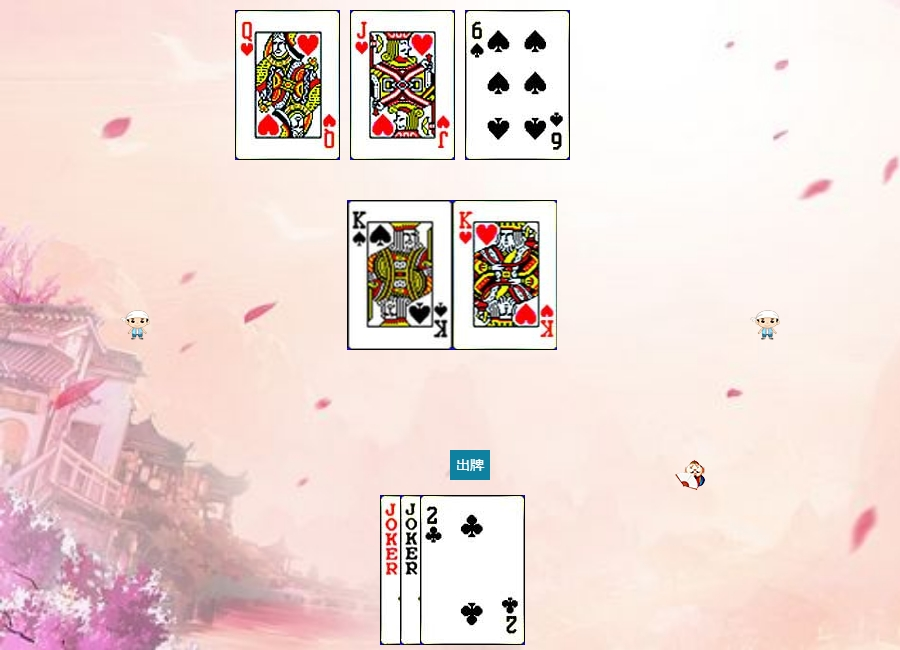11~3: (350, 10, 455, 160)
12~3: (235, 10, 340, 160)
13~3: (453, 200, 558, 350)
13~4: (348, 200, 453, 350)
15~2: (420, 495, 525, 645)
17~3: (400, 495, 505, 645)
18~4: (380, 495, 485, 645)
6~4: (465, 10, 570, 160)
